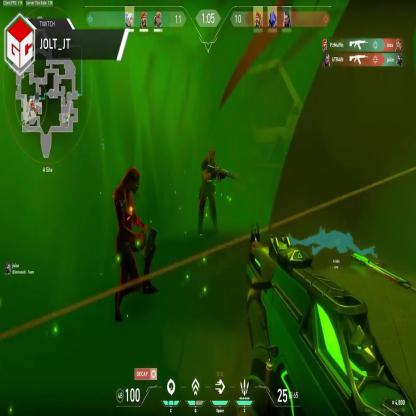enemy: (112, 162, 160, 321), (197, 149, 224, 234)
enemy_head: (125, 167, 141, 196), (208, 149, 216, 163)
